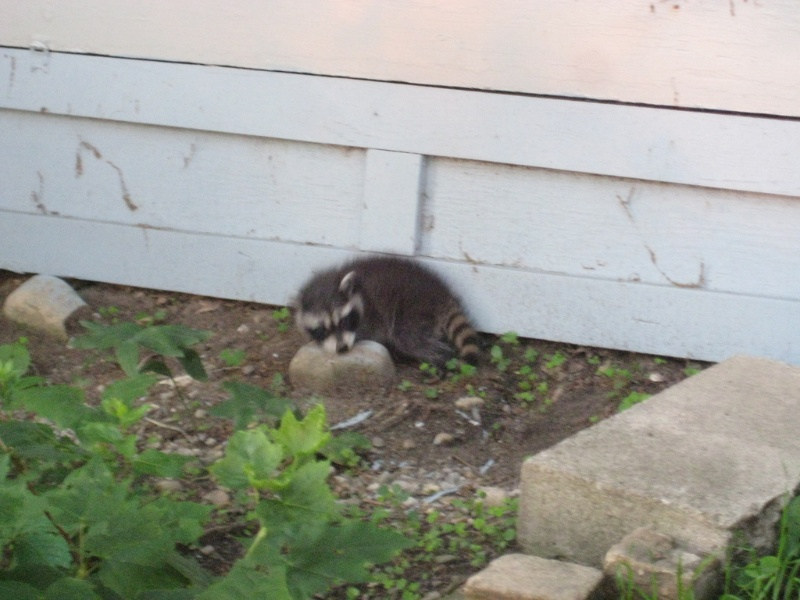raccoon: (292, 250, 483, 388)
